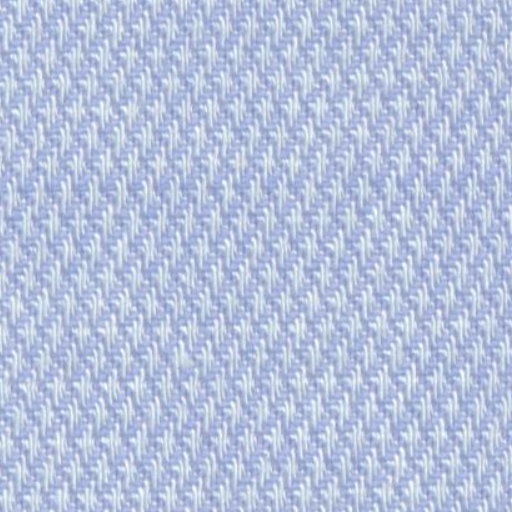TuoSha: (8, 161, 499, 235)
